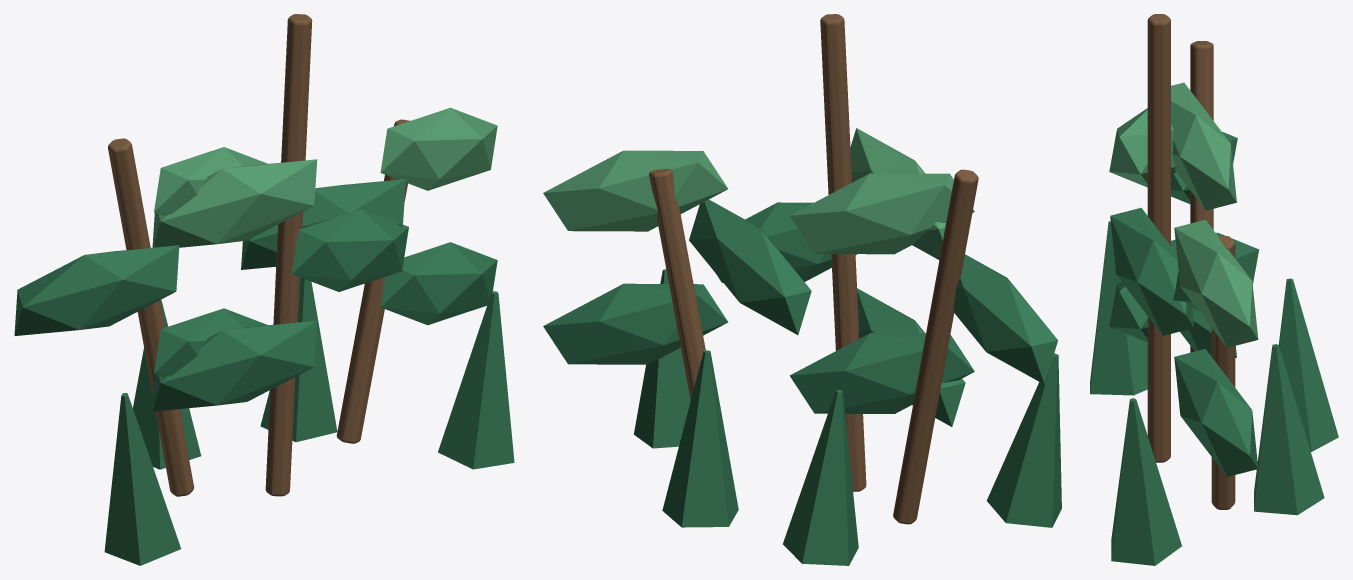
File: Plant-Cluster.glb
3 views of the same model, side by side, from view 1: azimuth 30°, elevation 25°; view 2: azimuth 150°, elevation 25°; view 3: azimuth 270°, elevation 25° (orthographic). The views are drawn at different scales.
Parts seen in each view (by area): view 1: Plant_Leaf_0_1, Plant_Leaf_1_0, Plant_Leaf_1_2, Plant_Stem_1, Plant_Grass_3, Plant_Grass_0, Plant_Leaf_2_2, Plant_Leaf_1_1, Plant_Leaf_2_0, Plant_Stem_0, Plant_Leaf_2_1, Plant_Stem_2 (+4 smaller); view 2: Plant_Leaf_0_2, Plant_Leaf_2_2, Plant_Leaf_2_0, Plant_Leaf_0_0, Plant_Stem_0, Plant_Leaf_2_1, Plant_Stem_1, Plant_Grass_2, Plant_Grass_1, Plant_Grass_0, Plant_Leaf_0_1, Plant_Stem_2 (+4 smaller); view 3: Plant_Stem_1, Plant_Grass_2, Plant_Grass_3, Plant_Leaf_2_0, Plant_Leaf_2_2, Plant_Leaf_1_1, Plant_Leaf_0_2, Plant_Grass_0, Plant_Grass_1, Plant_Leaf_1_2, Plant_Stem_0, Plant_Stem_2 (+4 smaller).
Boxes of the visible parts, x1,y1,x2,y2 form: Plant_Leaf_0_1: (14,245,179,335); Plant_Leaf_1_0: (152,320,317,411); Plant_Leaf_1_2: (152,159,317,247); Plant_Stem_1: (265,14,312,496); Plant_Grass_3: (438,291,514,469); Plant_Grass_0: (104,393,180,565); Plant_Leaf_2_2: (380,107,497,190); Plant_Leaf_1_1: (292,209,408,291); Plant_Leaf_2_0: (380,242,497,325); Plant_Stem_0: (108,138,194,496); Plant_Leaf_2_1: (241,179,405,269); Plant_Stem_2: (336,119,409,443); Plant_Leaf_0_2: (790,173,974,254); Plant_Leaf_2_2: (543,150,727,231); Plant_Leaf_2_0: (543,283,728,364); Plant_Leaf_0_0: (789,333,974,413); Plant_Stem_0: (893,169,978,524); Plant_Leaf_2_1: (689,199,811,334); Plant_Stem_1: (820,14,866,491); Plant_Grass_2: (662,350,738,527); Plant_Grass_1: (783,390,858,565); Plant_Grass_0: (986,353,1061,527); Plant_Leaf_0_1: (953,254,1057,384); Plant_Stem_2: (649,168,705,399); Plant_Stem_1: (1147,14,1170,462); Plant_Grass_2: (1254,344,1324,515); Plant_Grass_3: (1111,398,1181,565); Plant_Leaf_2_0: (1174,349,1258,476); Plant_Leaf_2_2: (1174,219,1258,347); Plant_Leaf_1_1: (1110,207,1194,335); Plant_Leaf_0_2: (1171,82,1236,210); Plant_Grass_0: (1090,221,1147,395); Plant_Grass_1: (1278,278,1338,451); Plant_Leaf_1_2: (1109,108,1175,187); Plant_Stem_0: (1190,41,1213,352); Plant_Stem_2: (1211,236,1235,509).
Size of the model in its own units: 1.55 by 1.41 by 0.6986.
